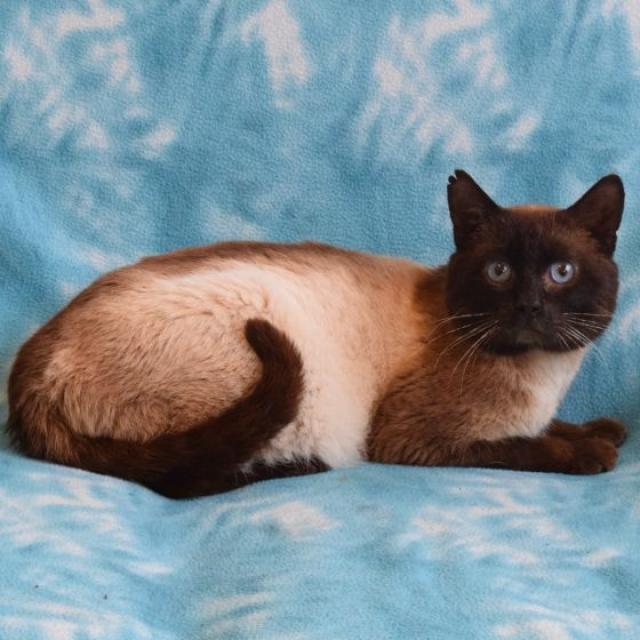siamese_cat: (435, 156, 634, 365)
